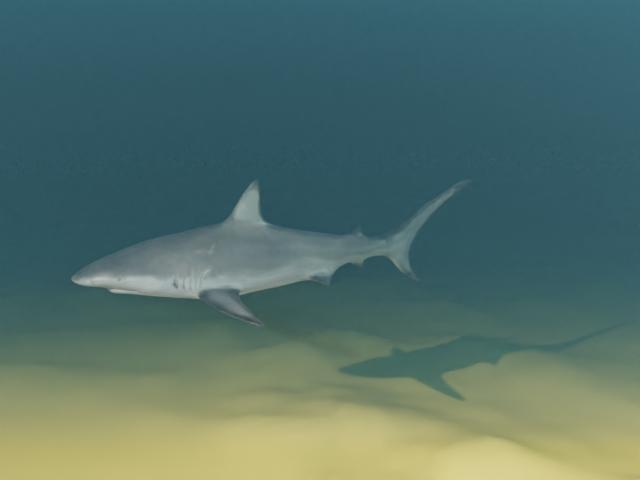Carribean Shark.001: (71, 179, 471, 326)
